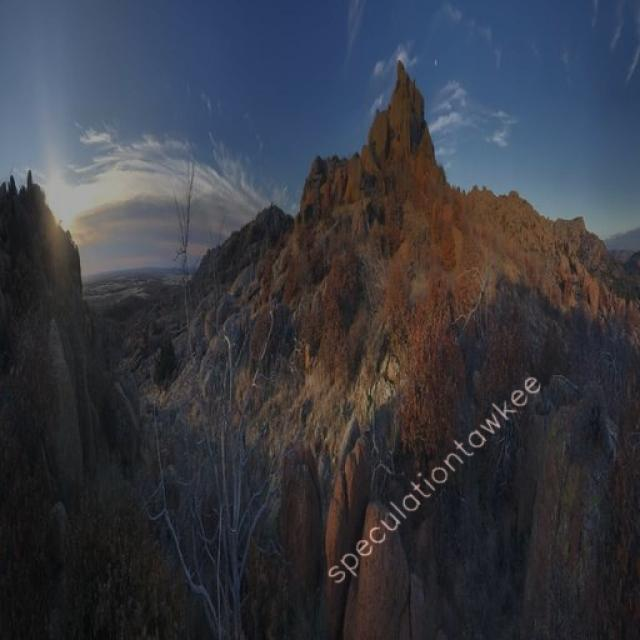watermark: (327, 359, 543, 590)
